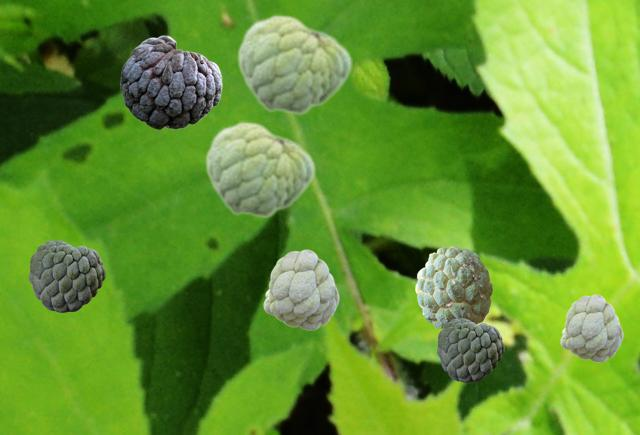atis: (236, 13, 351, 115), (204, 120, 314, 218), (120, 35, 221, 128), (415, 246, 491, 329), (263, 249, 338, 329), (29, 240, 104, 311), (437, 318, 503, 381), (560, 294, 622, 361)
